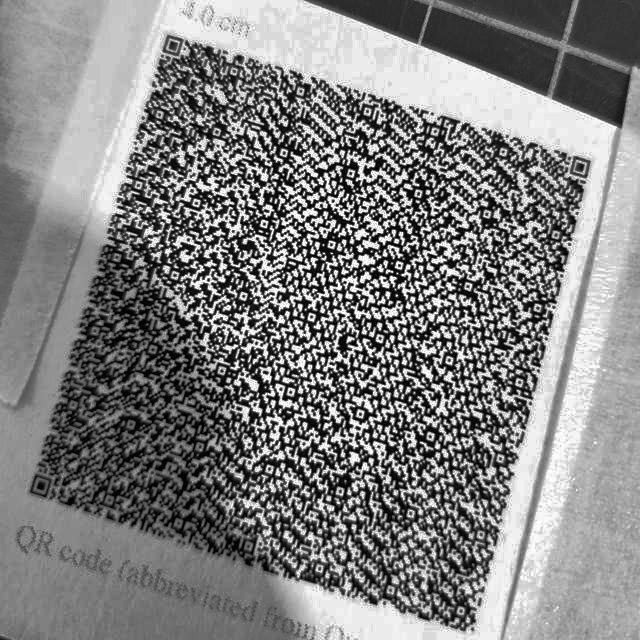qr_code: (18, 14, 620, 638)
